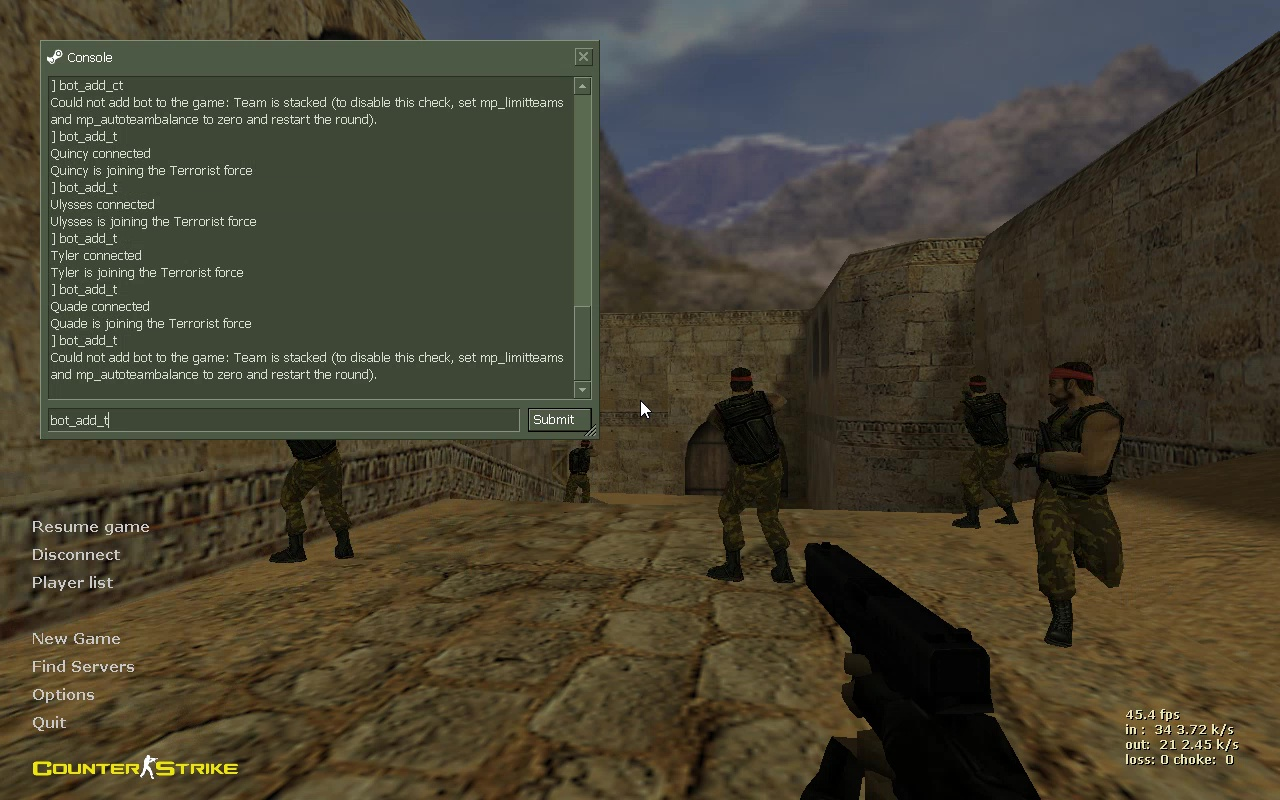terr1: (1014, 364, 1126, 645), (702, 366, 795, 582), (948, 377, 1018, 528), (563, 442, 596, 499)
